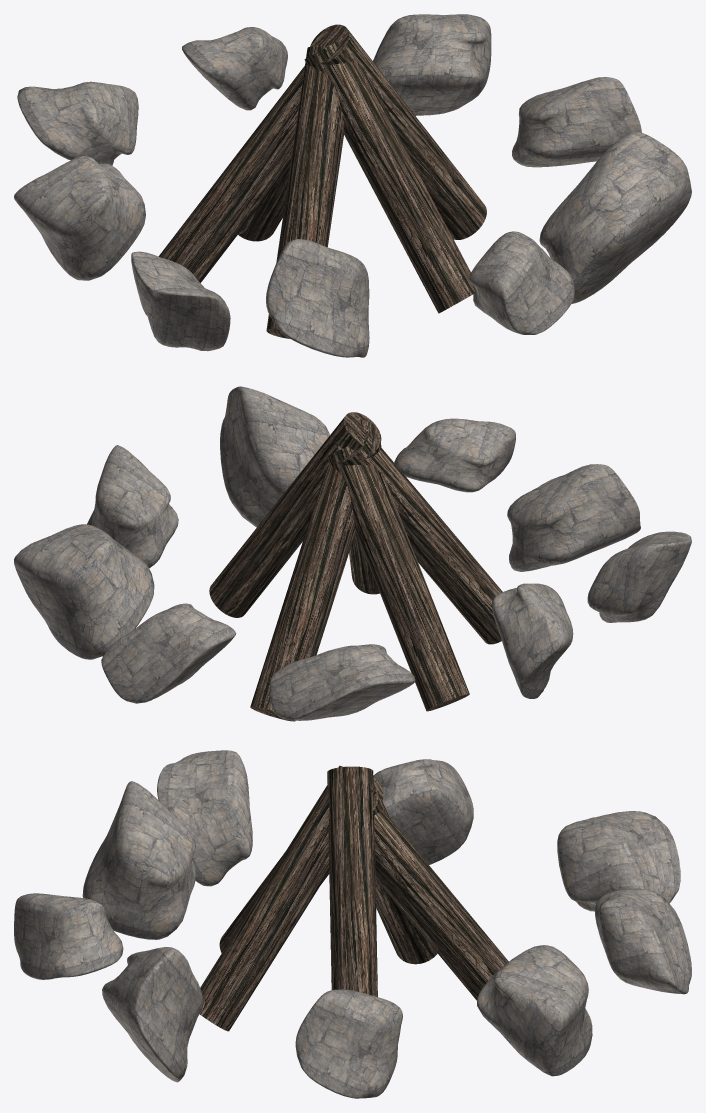
Rendered from CampFire.fbx.
The picture shows the model from 3 angles, top to bottom: view 1: azimuth 30°, elevation 25°; view 2: azimuth 150°, elevation 25°; view 3: azimuth 270°, elevation 25°; orthographic projection. The views are drawn at different scales.
Parts seen in each view (by area): view 1: Rocks, Wood; view 2: Rocks, Wood; view 3: Rocks, Wood.
Boxes of the visible parts, x1=… form: Rocks: x1=14, y1=14, x2=691, y2=357; Wood: x1=158, y1=24, x2=486, y2=338; Rocks: x1=14, y1=386, x2=691, y2=720; Wood: x1=209, y1=412, x2=502, y2=721; Rocks: x1=14, y1=750, x2=691, y2=1098; Wood: x1=199, y1=765, x2=508, y2=1031.
Size of the model in its own units: 1.77 by 1.86 by 0.8041.
